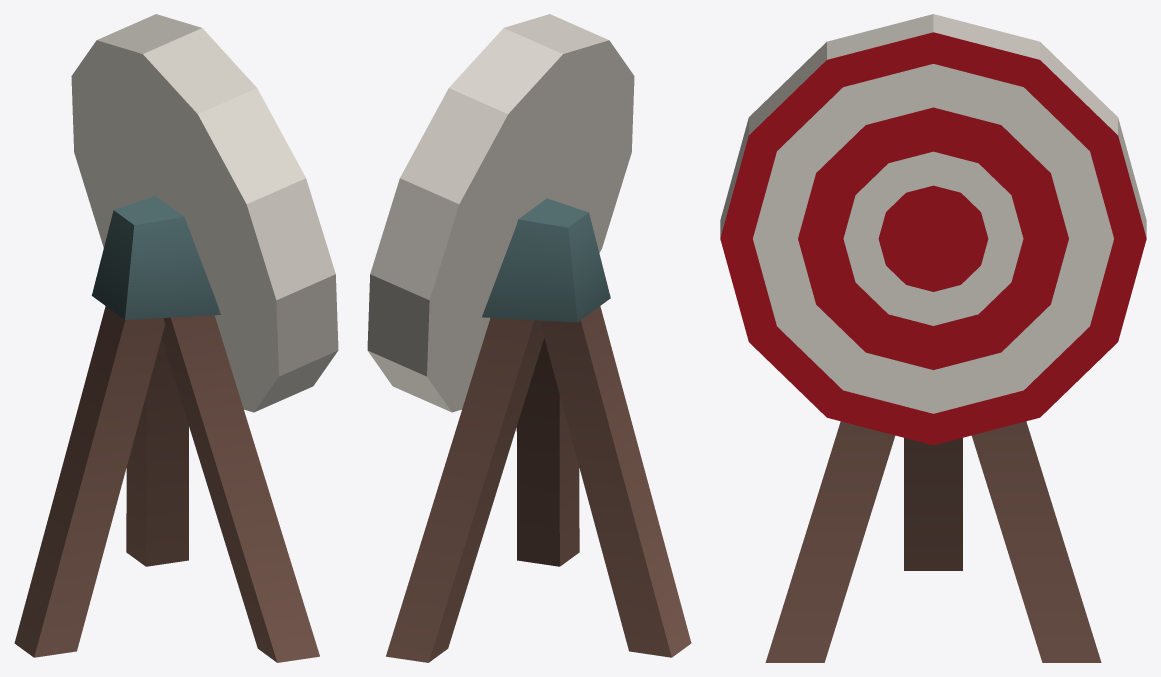
The model's file is Wooden Target.fbx.
The picture shows the model from 3 angles, left to right: view 1: azimuth 30°, elevation 25°; view 2: azimuth 150°, elevation 25°; view 3: azimuth 270°, elevation 25°; orthographic projection. The views are drawn at different scales.
Visible parts, largest first — view 1: Training Target; view 2: Training Target; view 3: Training Target.
Boxes of the visible parts, left/top/right/bottom form: Training Target: left=14, top=14, right=338, bottom=662; Training Target: left=367, top=14, right=691, bottom=662; Training Target: left=720, top=14, right=1146, bottom=662.
Bounding box in the file's own units: 63.74 × 145 × 91.97.
